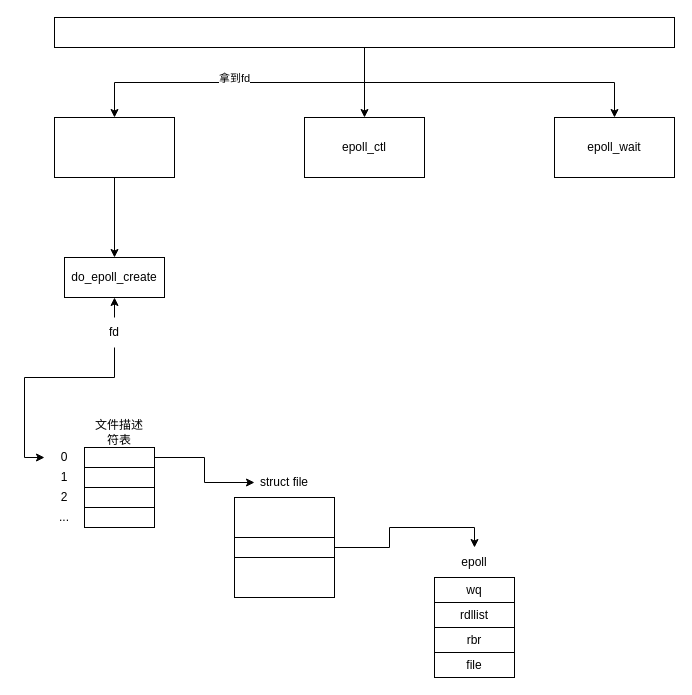
Some shapes in this 692 by 695 pixel diagram are drawn without their labels. Here are the shapes that lost their labels. From the top down, the centre of each, then its label:
At point 364,32: "用户态".
At point 114,147: "epoll_create".
At point 284,547: "private_data".
